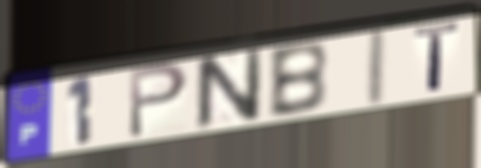1: (65, 72, 96, 146)
B: (265, 39, 330, 122)
I: (362, 25, 389, 111)
N: (192, 44, 266, 134)
P: (126, 59, 191, 143)
T: (411, 20, 462, 96)
